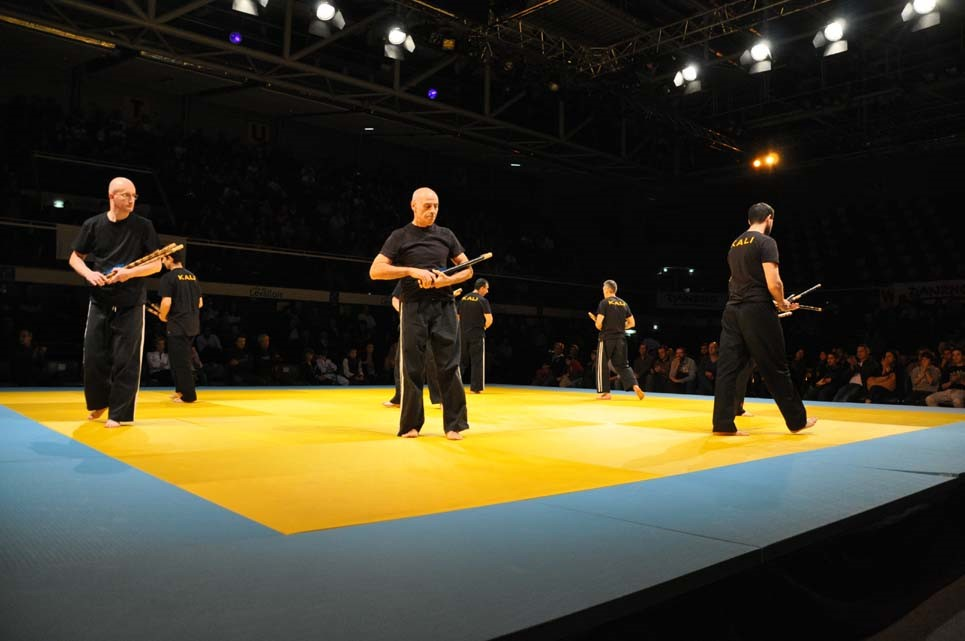baston_e: (104, 242, 172, 280), (421, 252, 488, 283), (134, 245, 180, 269), (789, 284, 818, 302), (788, 302, 820, 311)
baston_v: (485, 249, 495, 258), (816, 304, 825, 313), (787, 308, 795, 317), (180, 241, 185, 249), (171, 241, 176, 248), (817, 282, 823, 287), (587, 310, 591, 315)
